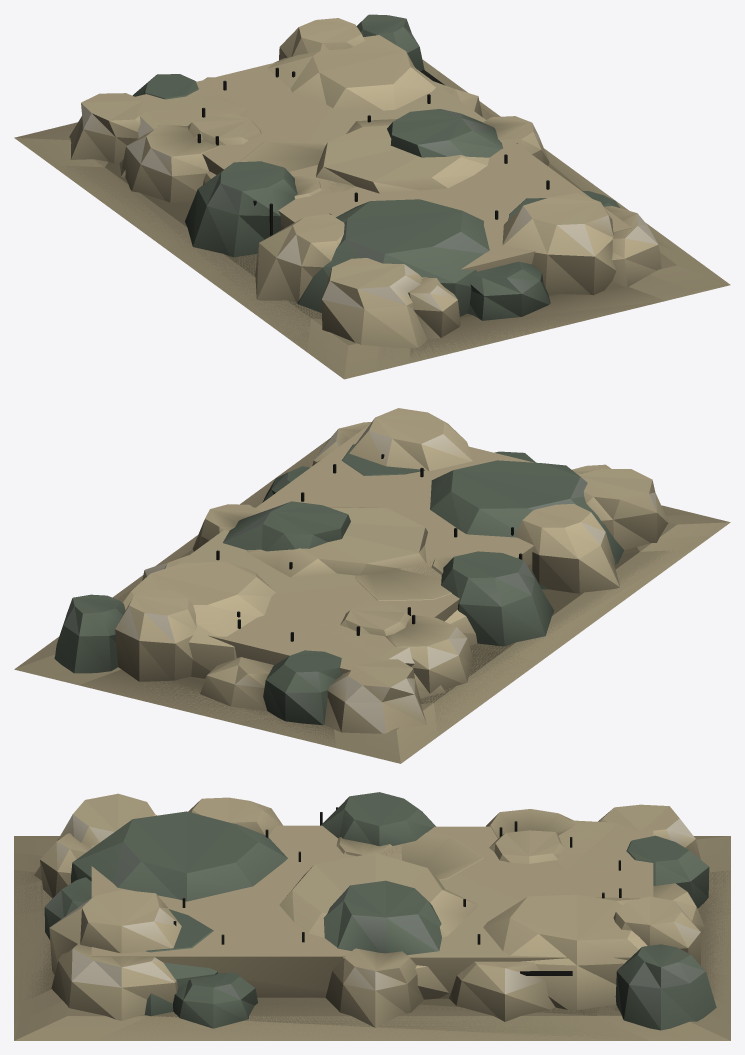
The model's file is neutral_rubble_2x3.glb.
3 renders of one model, top to bottom at view 1: azimuth 30°, elevation 25°; view 2: azimuth 150°, elevation 25°; view 3: azimuth 270°, elevation 25°, orthographic. The views are drawn at different scales.
Parts seen in each view (by area): view 1: body (×3); view 2: body (×3); view 3: body (×3).
Boxes of the visible parts, box(x1,y1,x2,y2) form: body (×3): box(14, 14, 730, 379); body (×3): box(14, 408, 730, 763); body (×3): box(14, 792, 730, 1040).
Bounding box in the file's own units: 5.52 × 0.906 × 8.16.
